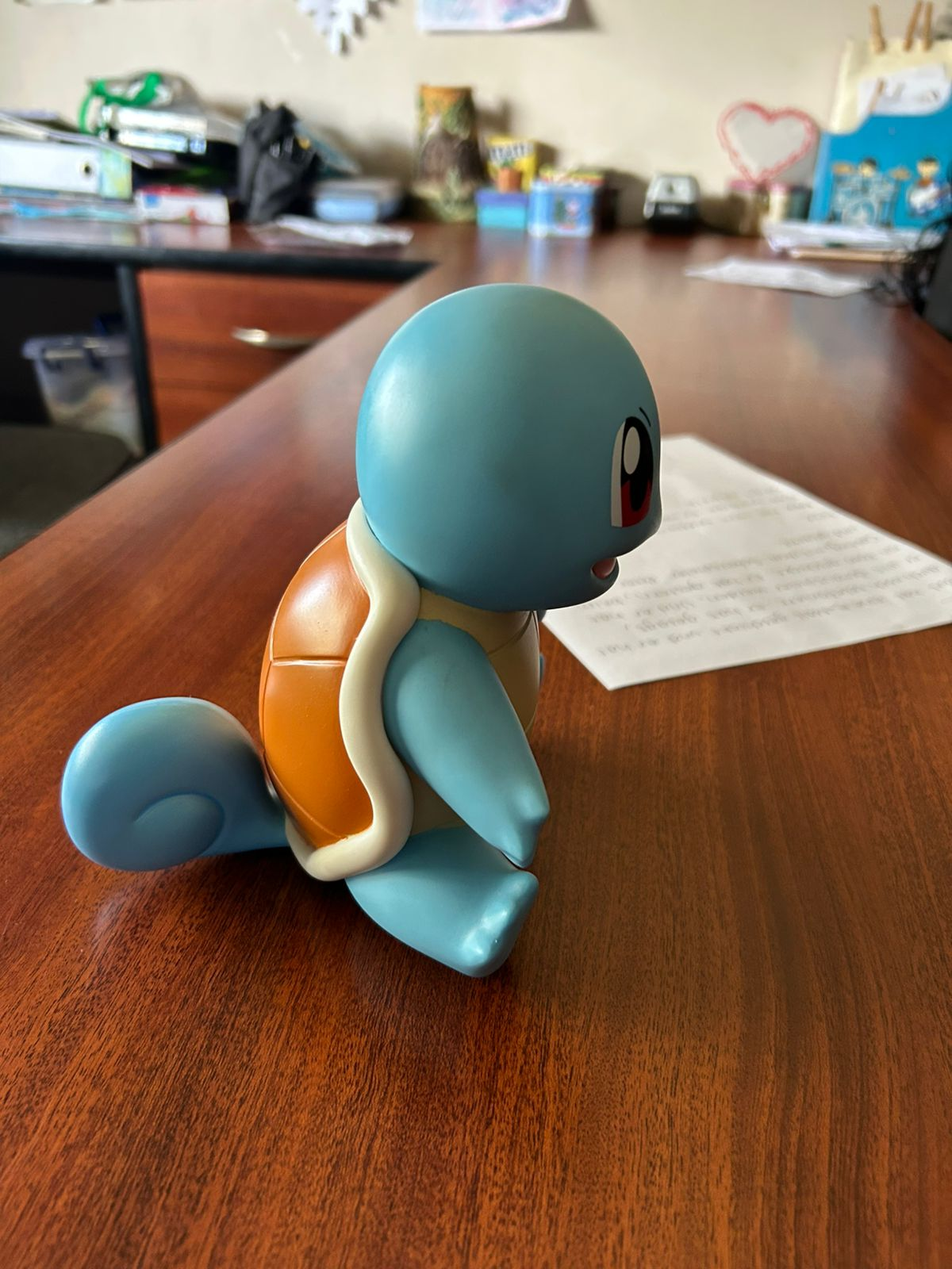Squirtle: (62, 286, 659, 974)
